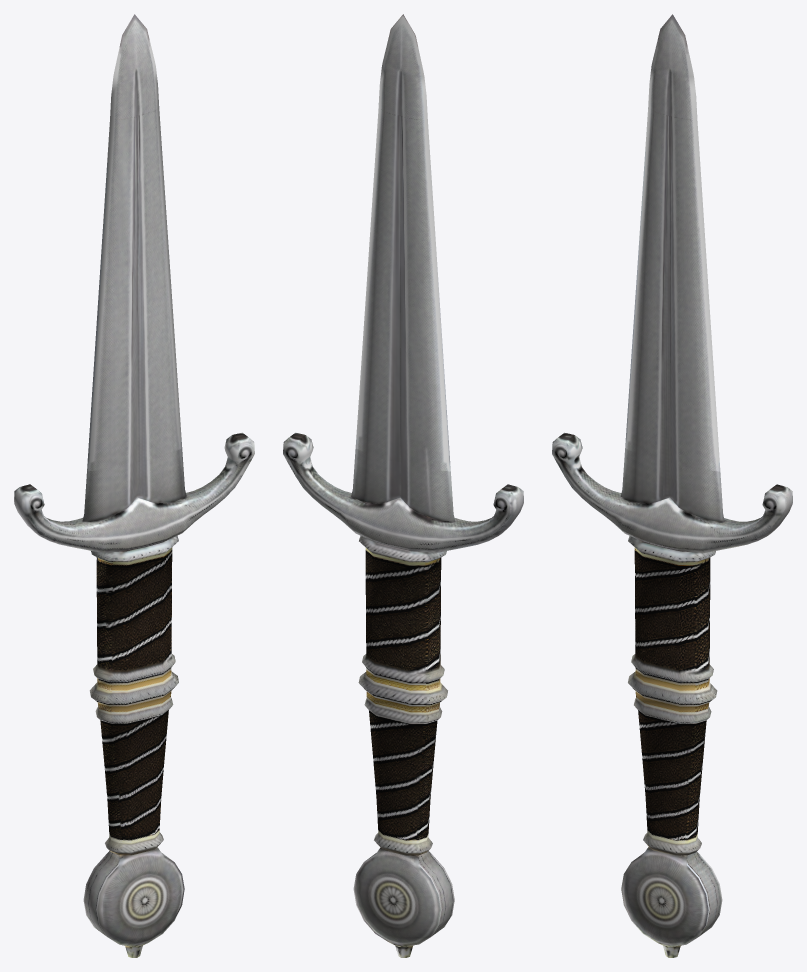
File: w_dagger_t2.glb
The picture shows the model from 3 angles, left to right: view 1: azimuth 30°, elevation 25°; view 2: azimuth 150°, elevation 25°; view 3: azimuth 330°, elevation 25°; orthographic projection.
Parts seen in each view (by area): view 1: Dagger:0; view 2: Dagger:0; view 3: Dagger:0.
Part boxes in pixels (left/top/right/bottom): Dagger:0: left=14, top=14, right=254, bottom=957; Dagger:0: left=283, top=14, right=523, bottom=957; Dagger:0: left=552, top=14, right=792, bottom=957.
Bounding box in the file's own units: 8.27 × 31.71 × 1.79.
Materials: 1 (1 with a texture image).
